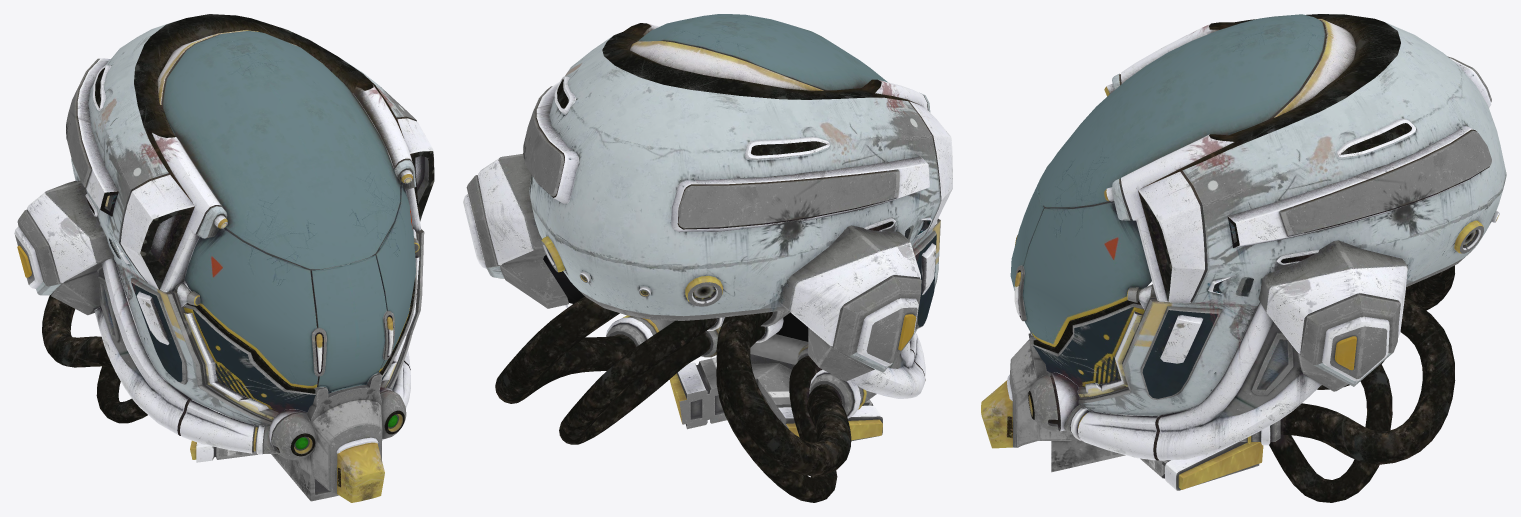
The model's file is DamagedHelmetWebp.glb.
The picture shows the model from 3 angles, left to right: view 1: azimuth 30°, elevation 25°; view 2: azimuth 150°, elevation 25°; view 3: azimuth 270°, elevation 25°; orthographic projection. The views are drawn at different scales.
Parts seen in each view (by area): view 1: node_damagedHelmet_-6514; view 2: node_damagedHelmet_-6514; view 3: node_damagedHelmet_-6514.
Boxes of the visible parts, <box> form: node_damagedHelmet_-6514: <box>14,14,434,502</box>; node_damagedHelmet_-6514: <box>463,14,952,502</box>; node_damagedHelmet_-6514: <box>981,14,1506,502</box>.
Size of the model in its own units: 1.89 by 1.8 by 2.
Materials: 1 (1 with a texture image).
